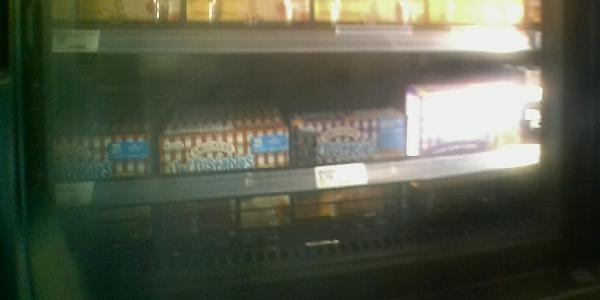icecream: (162, 127, 292, 220), (49, 130, 160, 236), (416, 85, 519, 191), (293, 117, 405, 212)
